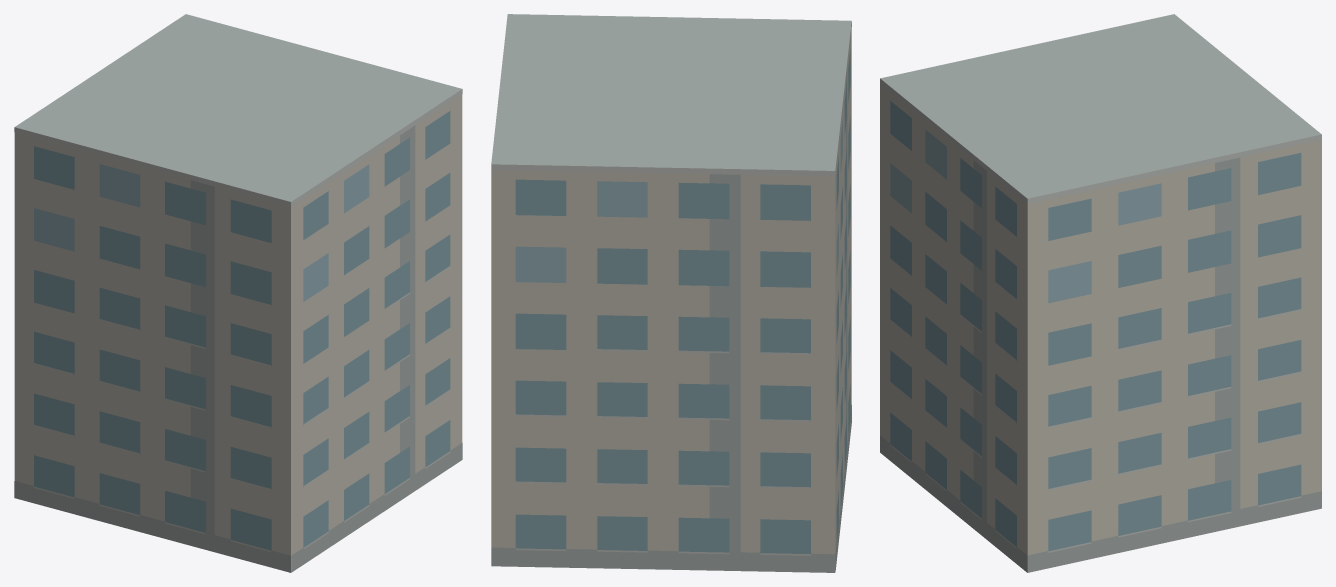
File: survey-upis-32710331.glb
3 renders of one model, left to right at view 1: azimuth 30°, elevation 25°; view 2: azimuth 150°, elevation 25°; view 3: azimuth 270°, elevation 25°, orthographic. The views are drawn at different scales.
Parts seen in each view (by area): view 1: survey-upis-32710331.tmp; view 2: survey-upis-32710331.tmp; view 3: survey-upis-32710331.tmp.
Part boxes in pixels (x1,y1,x2,y2): survey-upis-32710331.tmp: (14, 14, 462, 572); survey-upis-32710331.tmp: (491, 14, 851, 572); survey-upis-32710331.tmp: (880, 14, 1321, 572).
Bounding box in the file's own units: 18.27 × 17.25 × 18.47.
